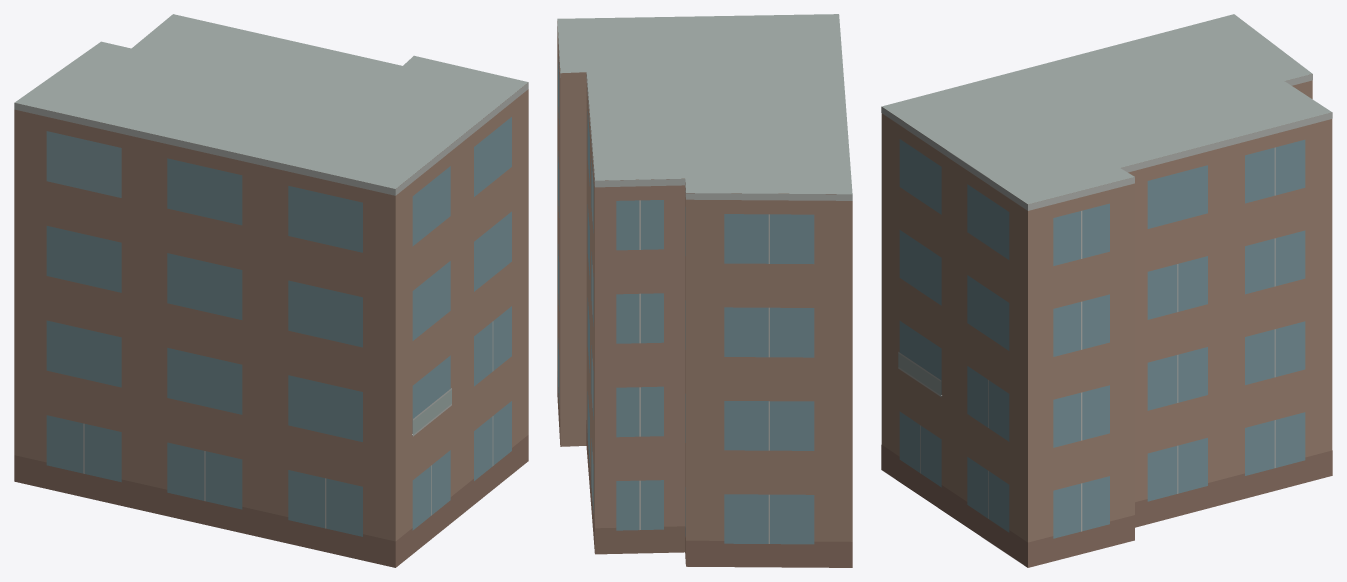
File: survey-upis-32836483.glb
The picture shows the model from 3 angles, left to right: view 1: azimuth 30°, elevation 25°; view 2: azimuth 150°, elevation 25°; view 3: azimuth 270°, elevation 25°; orthographic projection. The views are drawn at different scales.
Visible parts, largest first — view 1: survey-upis-32836483.tmp; view 2: survey-upis-32836483.tmp; view 3: survey-upis-32836483.tmp.
Part boxes in pixels (x1,y1,x2,y2): survey-upis-32836483.tmp: (14,14,528,567); survey-upis-32836483.tmp: (557,14,852,567); survey-upis-32836483.tmp: (881,14,1332,567).
Size of the model in its own units: 15.29 by 13.6 by 15.3.
